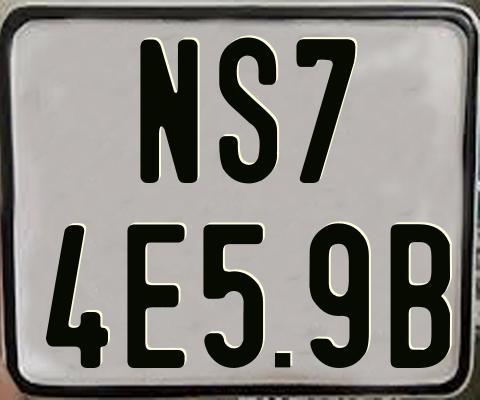4: (44, 225, 106, 374)
5: (201, 224, 263, 371)
7: (295, 37, 354, 187)
9: (307, 222, 371, 373)
B: (387, 221, 447, 367)
E: (126, 222, 186, 368)
N: (137, 37, 200, 183)
S: (216, 36, 280, 189)
